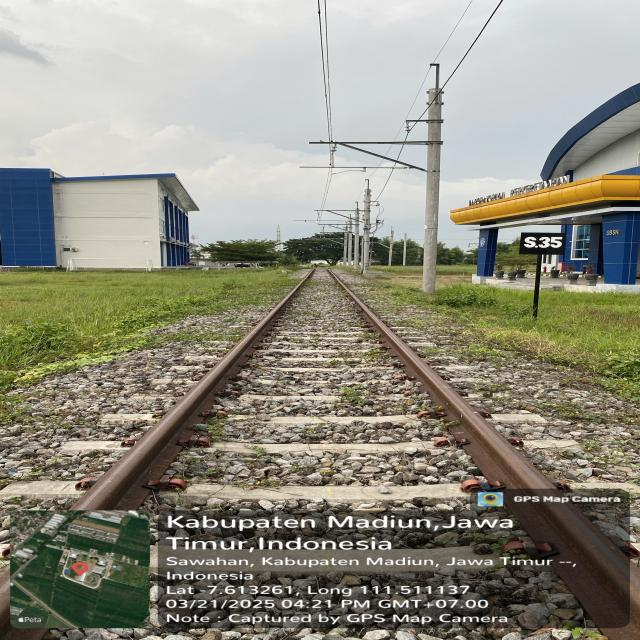rail-detection: (71, 269, 313, 510), (329, 271, 558, 495), (510, 507, 637, 627)
